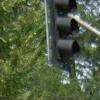Traffic light: (35, 4, 90, 73)
